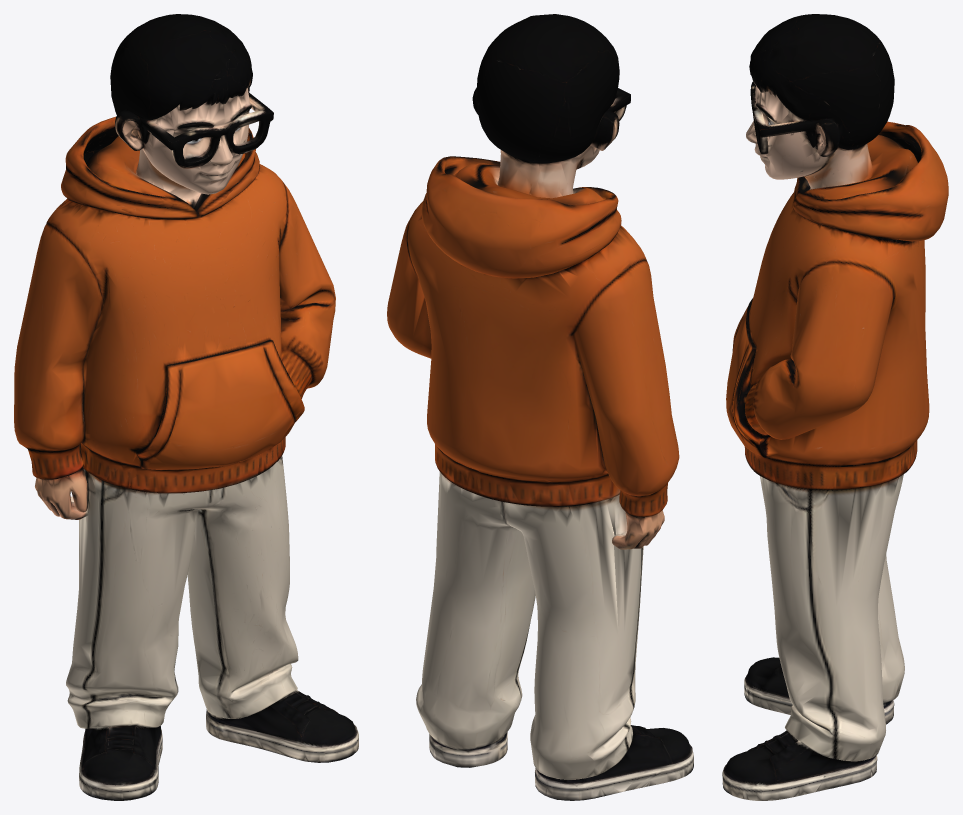
File: PetSelf.glb
The picture shows the model from 3 angles, left to right: view 1: azimuth 30°, elevation 25°; view 2: azimuth 150°, elevation 25°; view 3: azimuth 270°, elevation 25°; orthographic projection. The views are drawn at different scales.
Visible parts, largest first — view 1: node_0; view 2: node_0; view 3: node_0.
Part boxes in pixels (left/top/right/bottom): node_0: left=14, top=14, right=358, bottom=800; node_0: left=387, top=14, right=693, bottom=800; node_0: left=722, top=14, right=948, bottom=800.
Size of the model in its own units: 0.4551 by 1.11 by 0.3168.
1 material, 1 textured.
